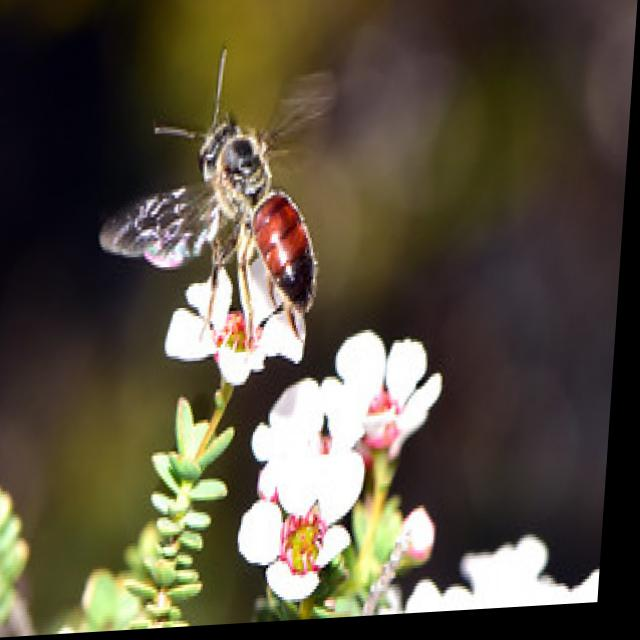Abeille: (91, 35, 384, 359)
